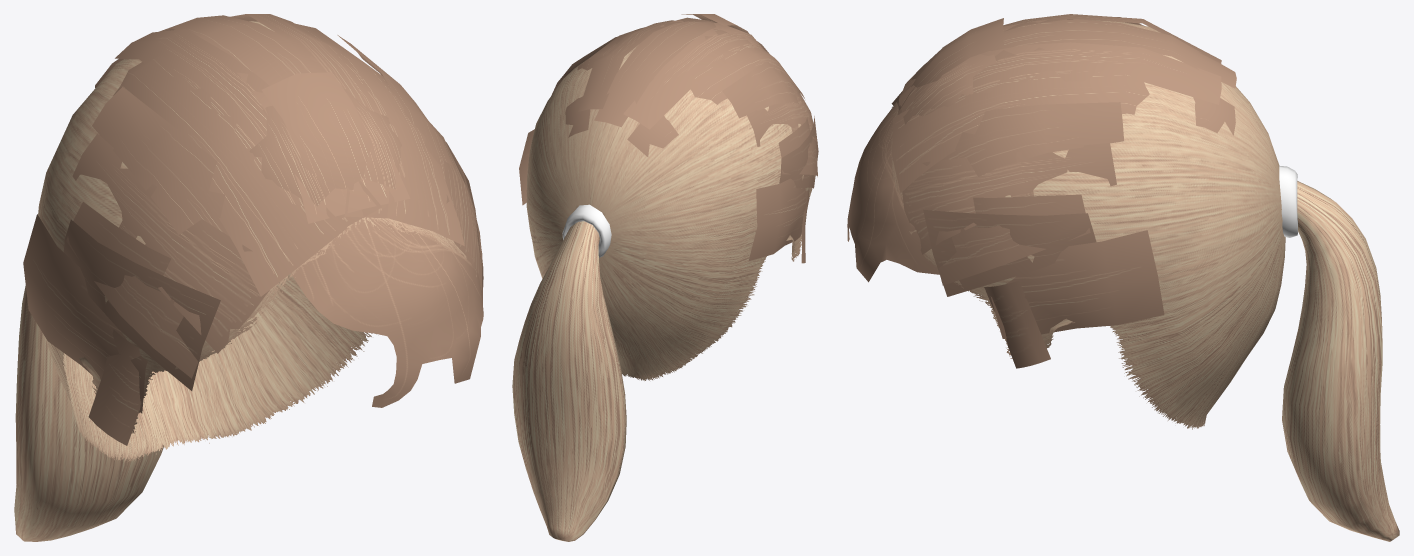
The model's file is hair_001.obj.
3 views of the same model, side by side, from view 1: azimuth 30°, elevation 25°; view 2: azimuth 150°, elevation 25°; view 3: azimuth 270°, elevation 25° (orthographic). The views are drawn at different scales.
Bounding box in the file's own units: 17.14 × 27.22 × 26.14.
